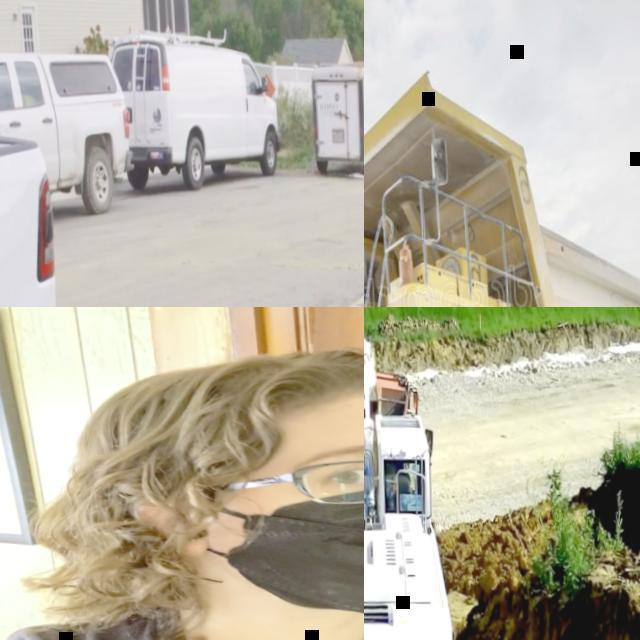no_helmet: (87, 345, 364, 456)
